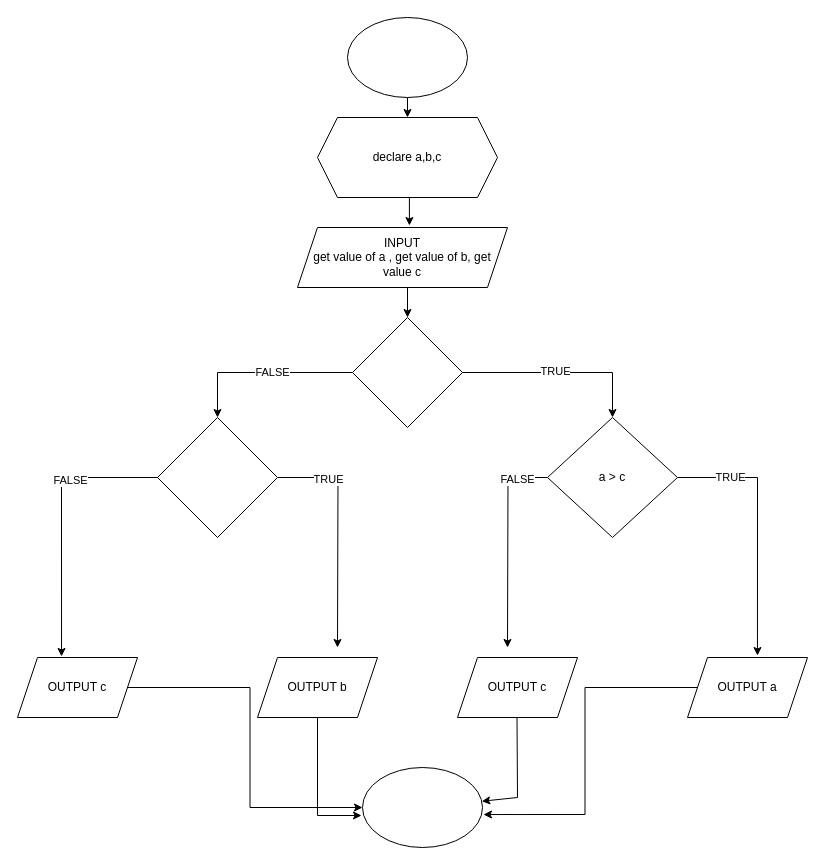
Some shapes in this 825 by 865 pixel diagram are drawn without their labels. The shapes that lost their labels are listed below. From the top down, each one's centre as x and y in pixels, then its label:
At (x=407, y=57): "Start".
At (x=217, y=477): "b > c".
At (x=422, y=807): "End".
